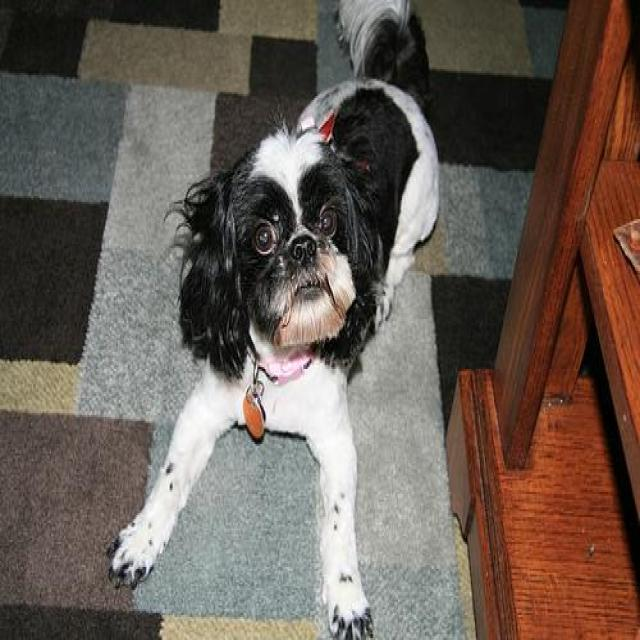shih_tzu: (106, 0, 442, 638)
